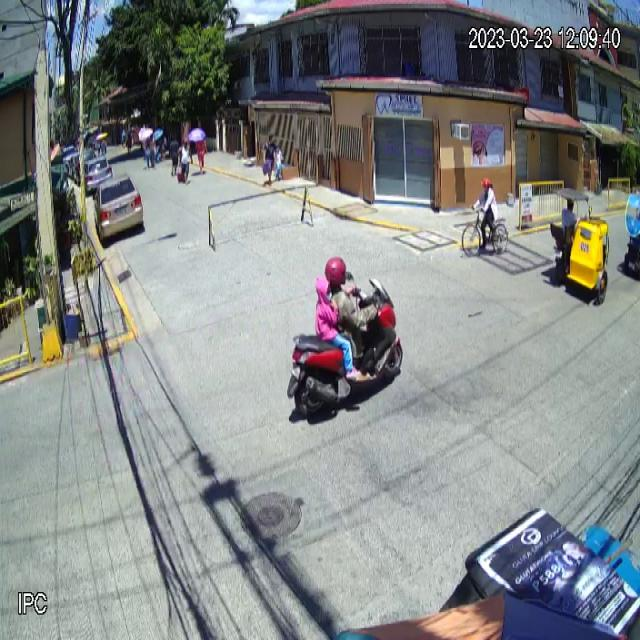Car: (92, 173, 145, 245)
Motorcycle: (286, 270, 404, 420)
Tricycle: (550, 187, 611, 306)
